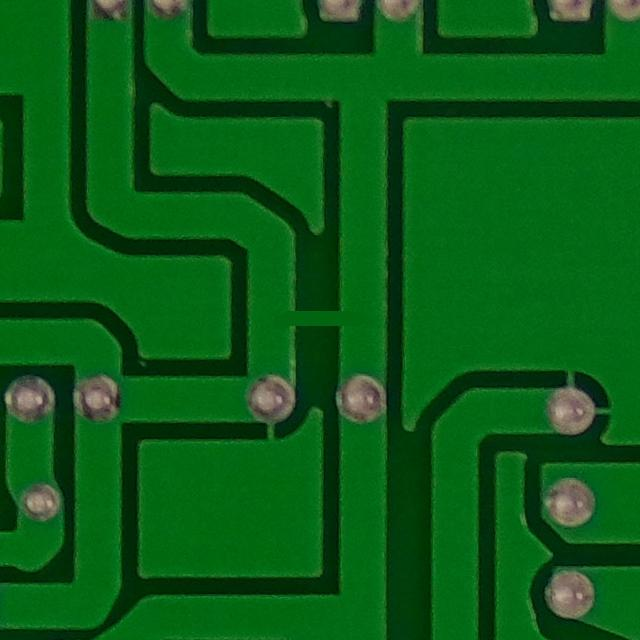short: (247, 265, 394, 376)
